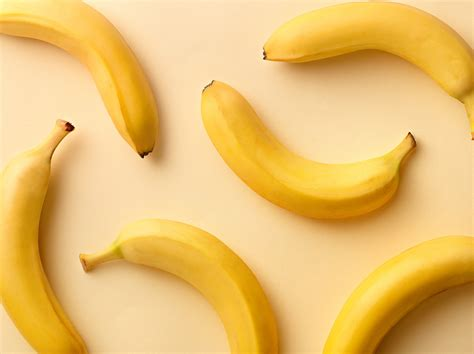banana: (197, 80, 417, 224), (80, 217, 287, 354), (1, 1, 161, 162), (258, 1, 474, 100), (1, 147, 91, 354)
